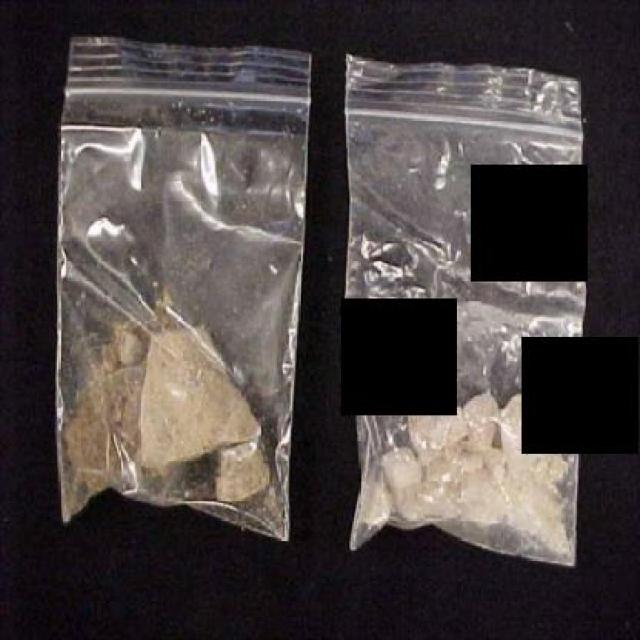plastic bag: (52, 28, 586, 568)
